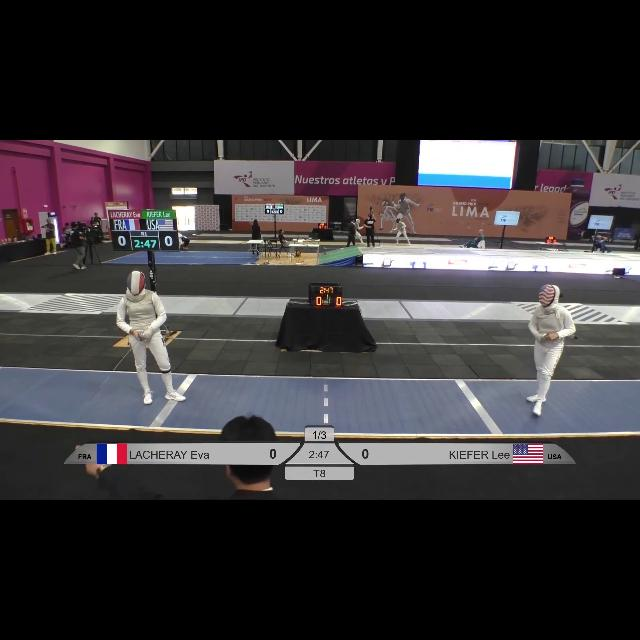blade: (86, 334, 148, 404), (539, 332, 569, 352)
